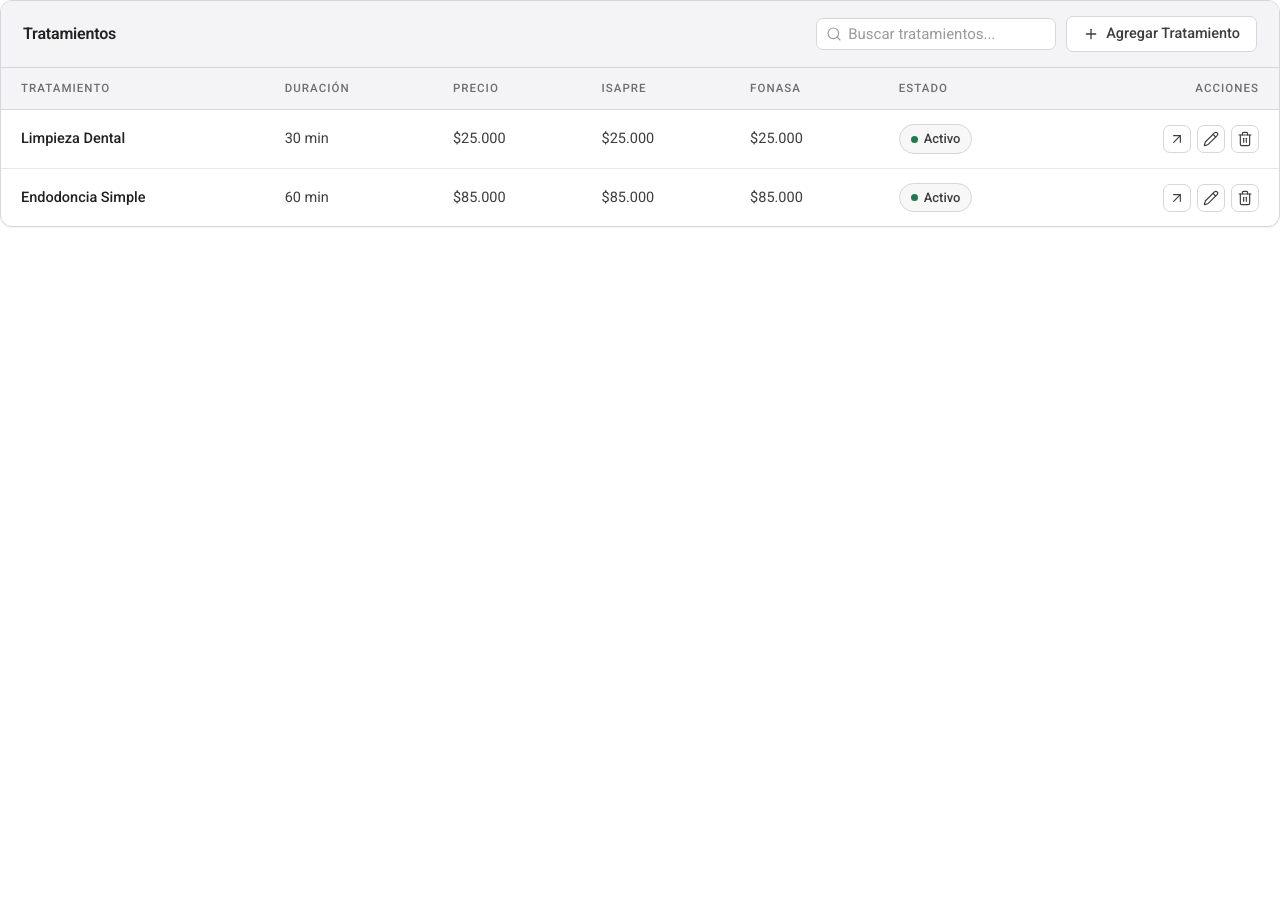
Scenario: TreatmentsManager — CRUD & Medical Autocomplete Integration › prevents form submission and shows errors when price is negative or duration is zero
Click the button "Agregar Tratamiento" at {"x": 1162, "y": 34}, box [1066,16,1257,52]
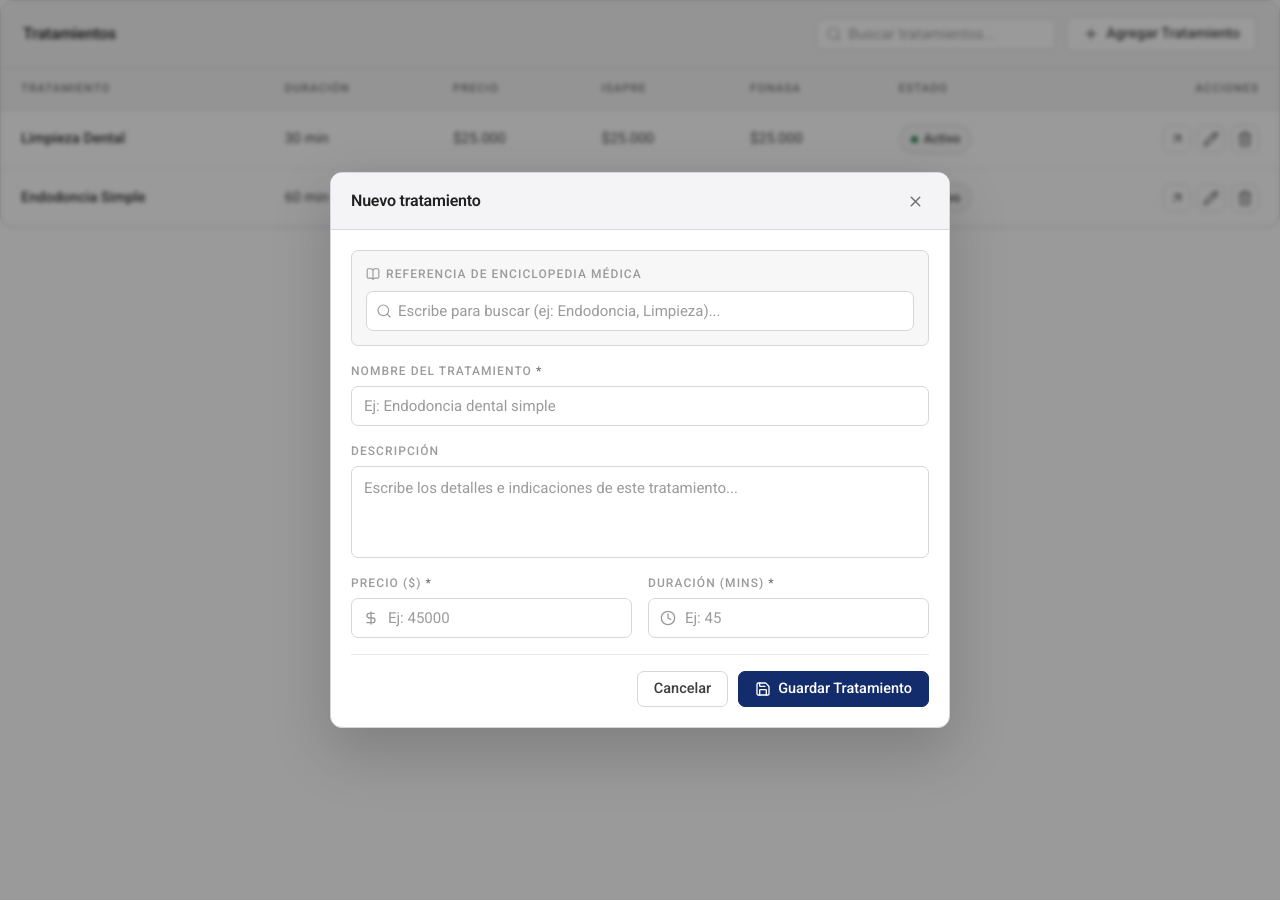
Type "Tratamiento Fallido" into the field labelled "Nombre del tratamiento *" at {"x": 640, "y": 406}, box [351,386,929,426]
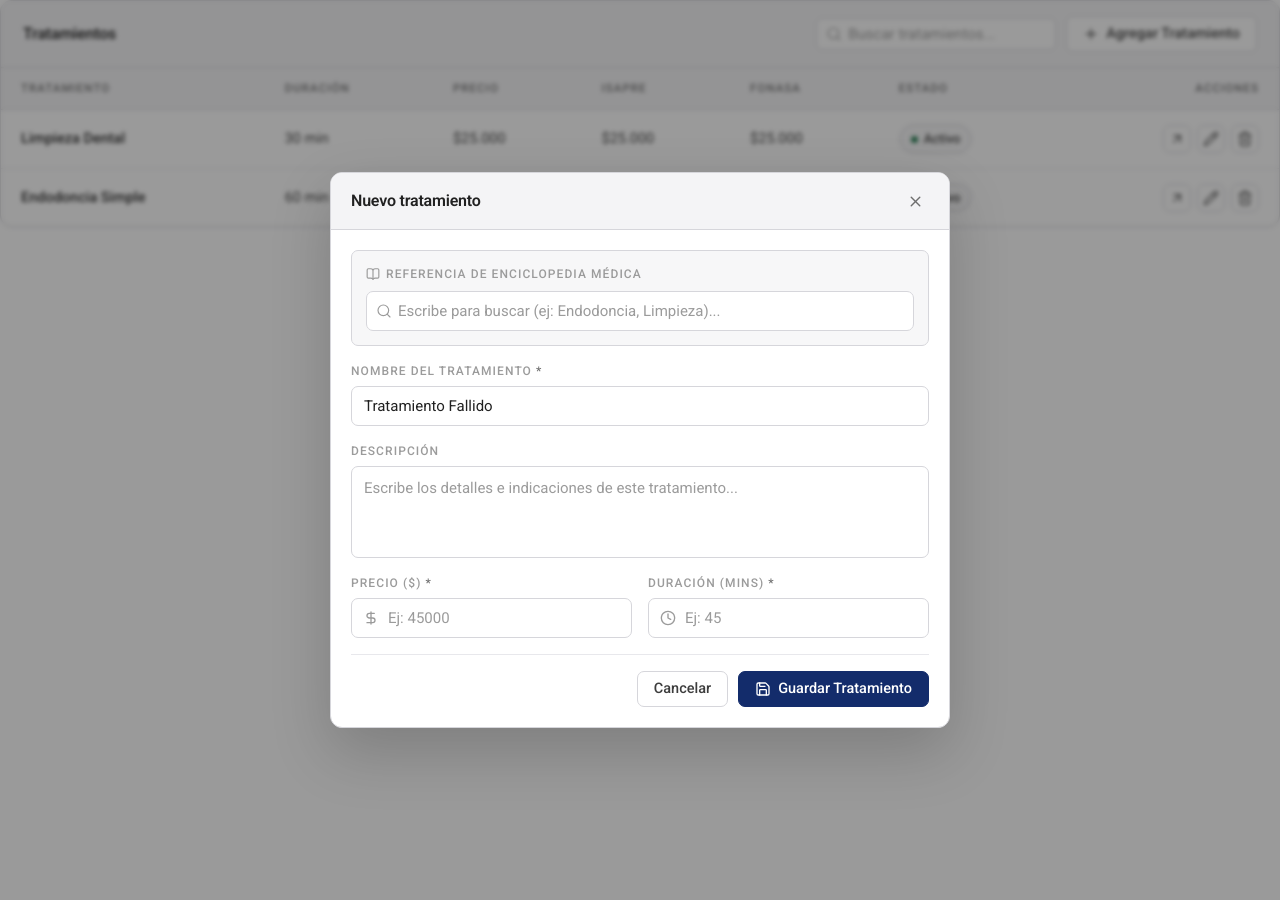
Type "-20" into the number field labelled "Precio ($) *" at {"x": 492, "y": 618}, box [351,598,632,638]
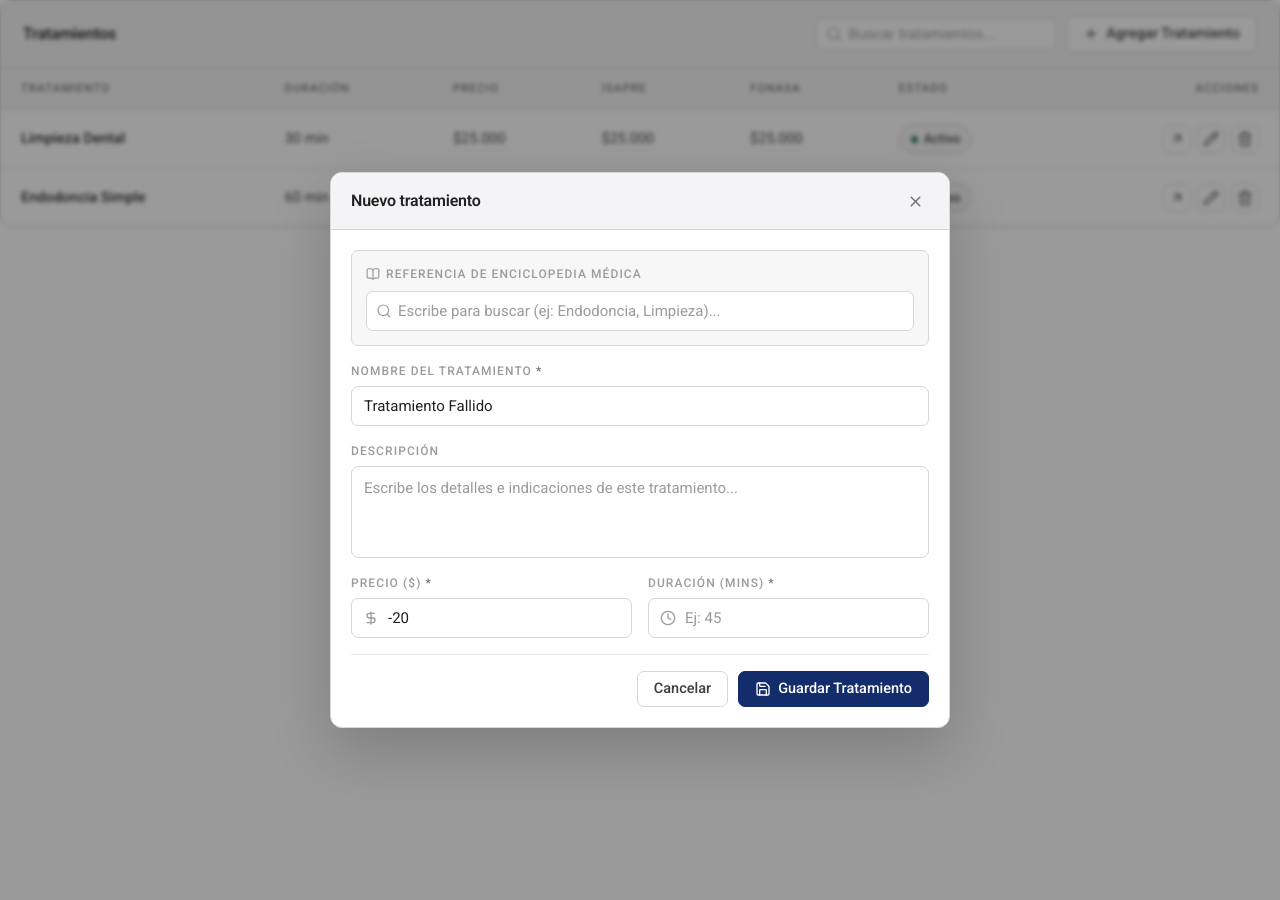
Type "0" into the number field labelled "Duración (mins) *" at {"x": 788, "y": 618}, box [648,598,929,638]
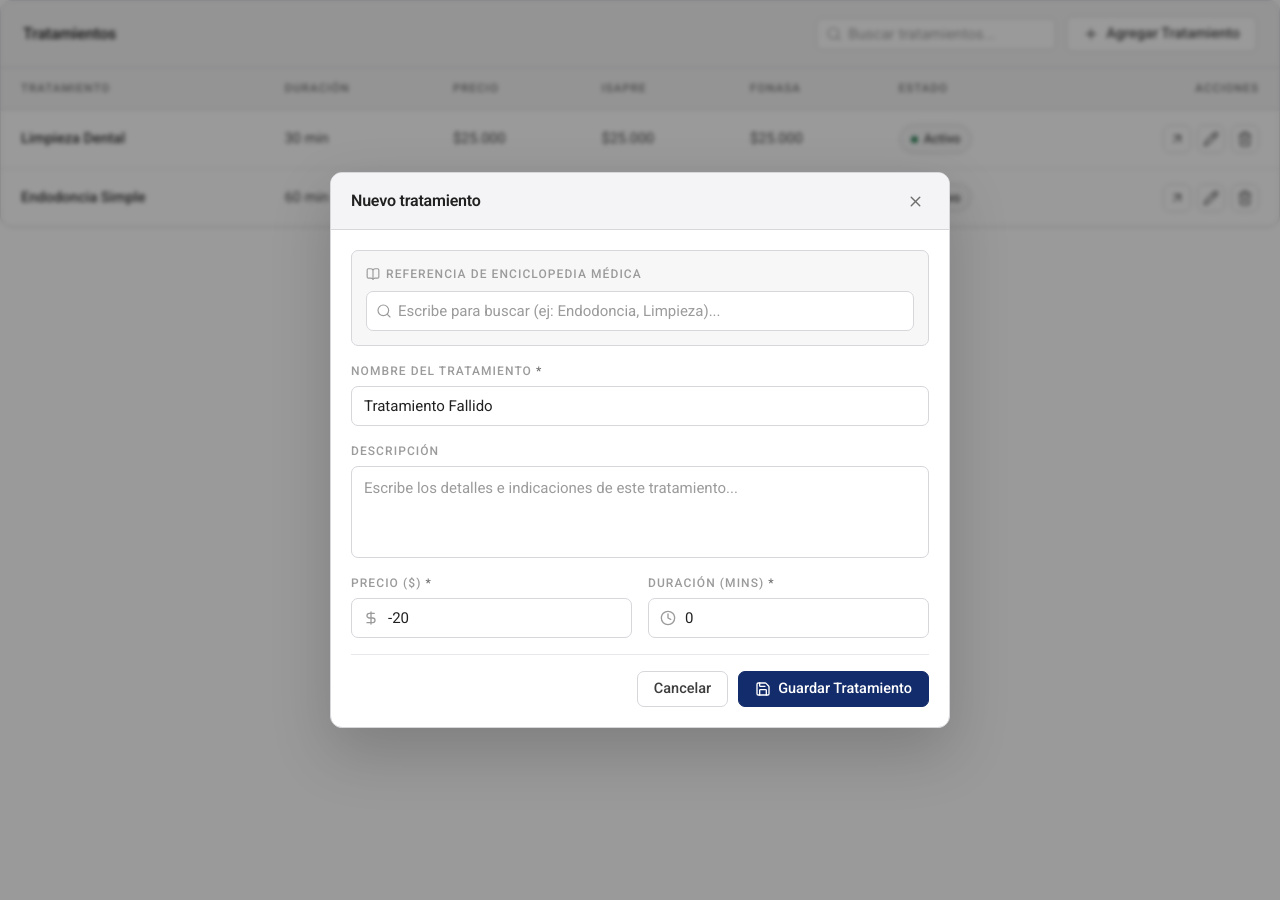
Submit the form, box [351,250,929,707]
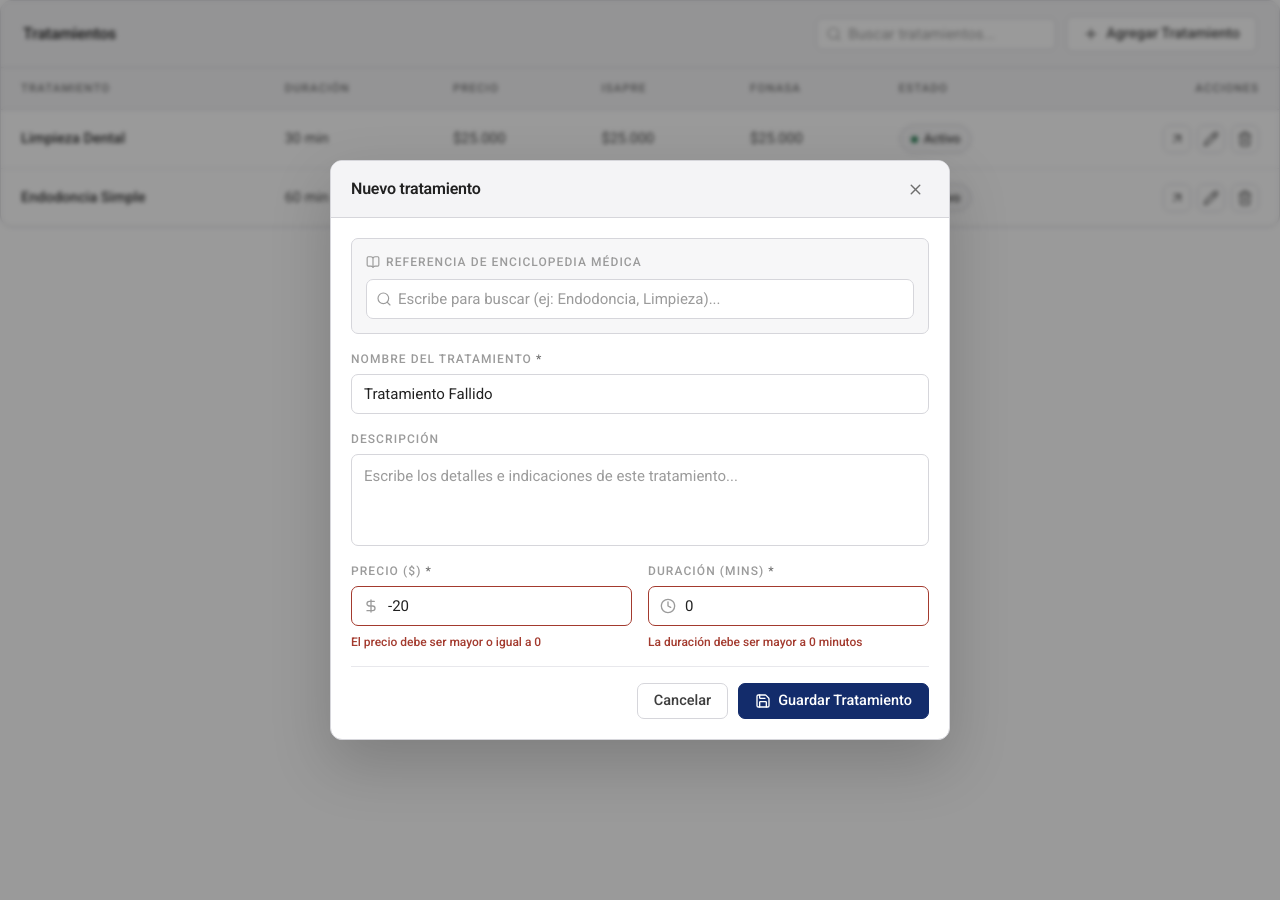
Expected: the text "El precio debe ser mayor o igual a 0" is shown, [351,635,541,649]
Expected: the text "La duración debe ser mayor a 0 minutos" is shown, [648,635,862,649]
